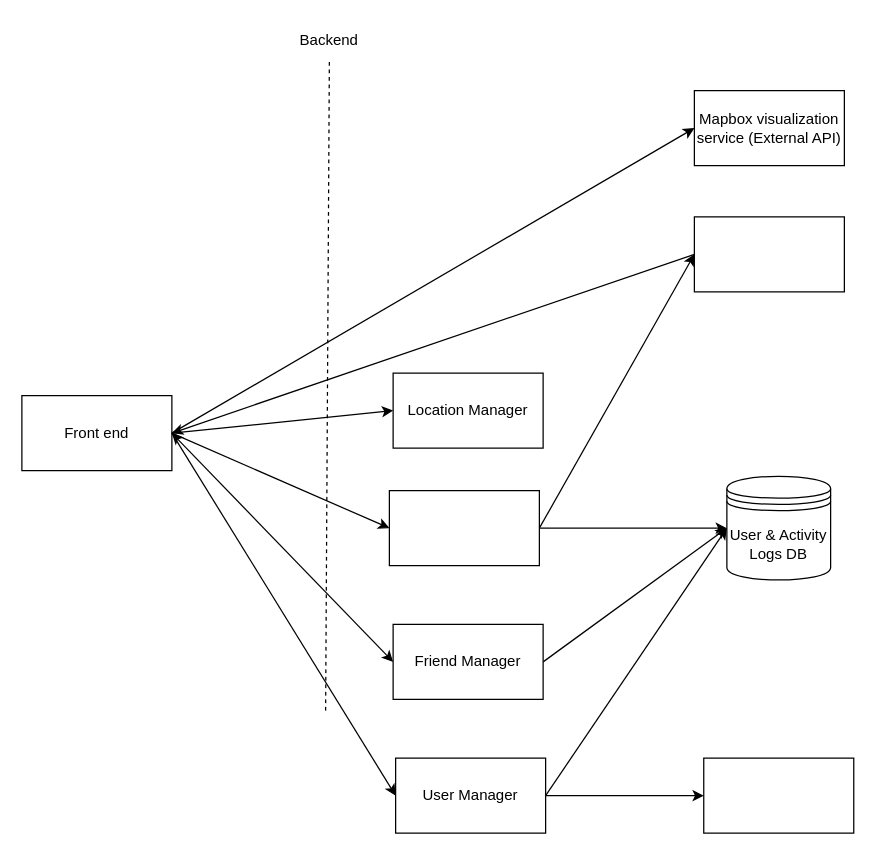
Image size: 876x855. Some labels were removed from this diagram. Each missing label, with the centre of its shape:
Firebase Push Notifications (External API): point 768,254
Google Authentication (External API): point 778,795
Notifications Manager: point 463,527
